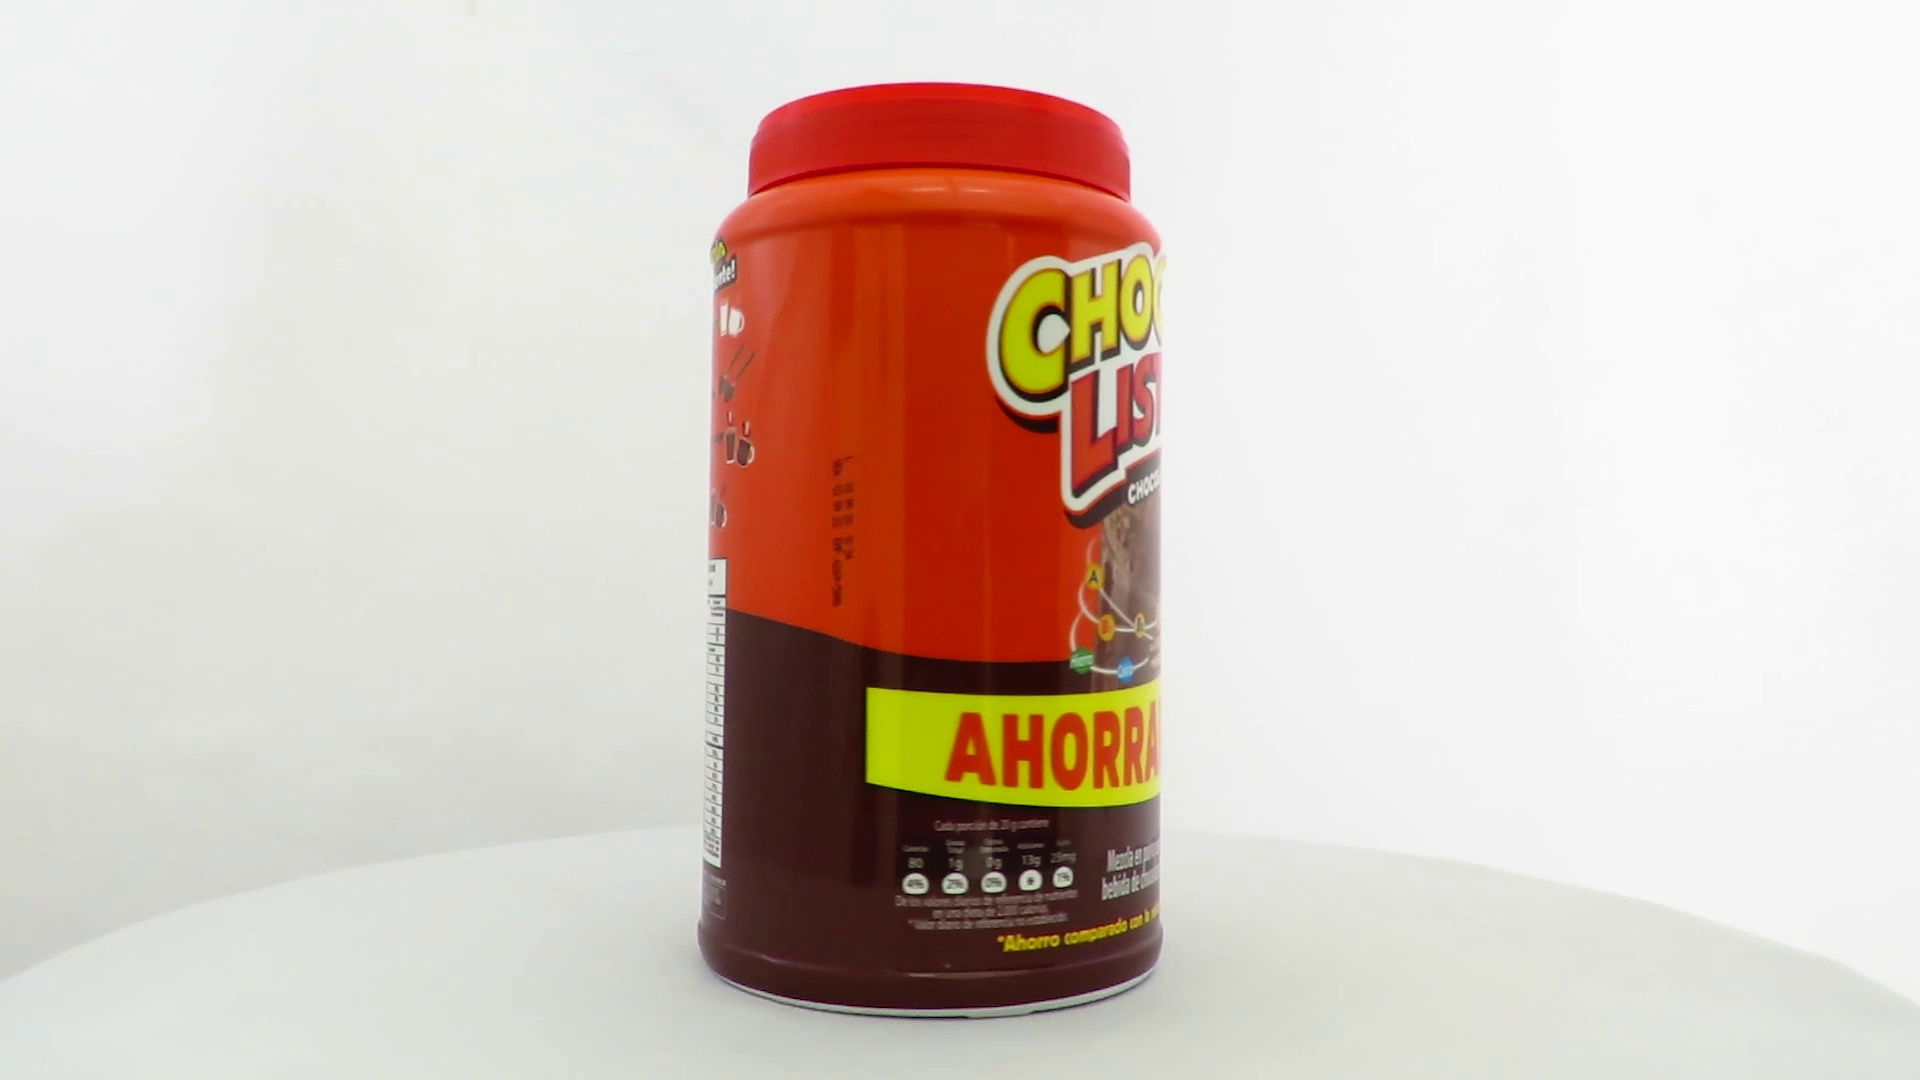COL0170103TRR00100: (692, 76, 1168, 1027)
